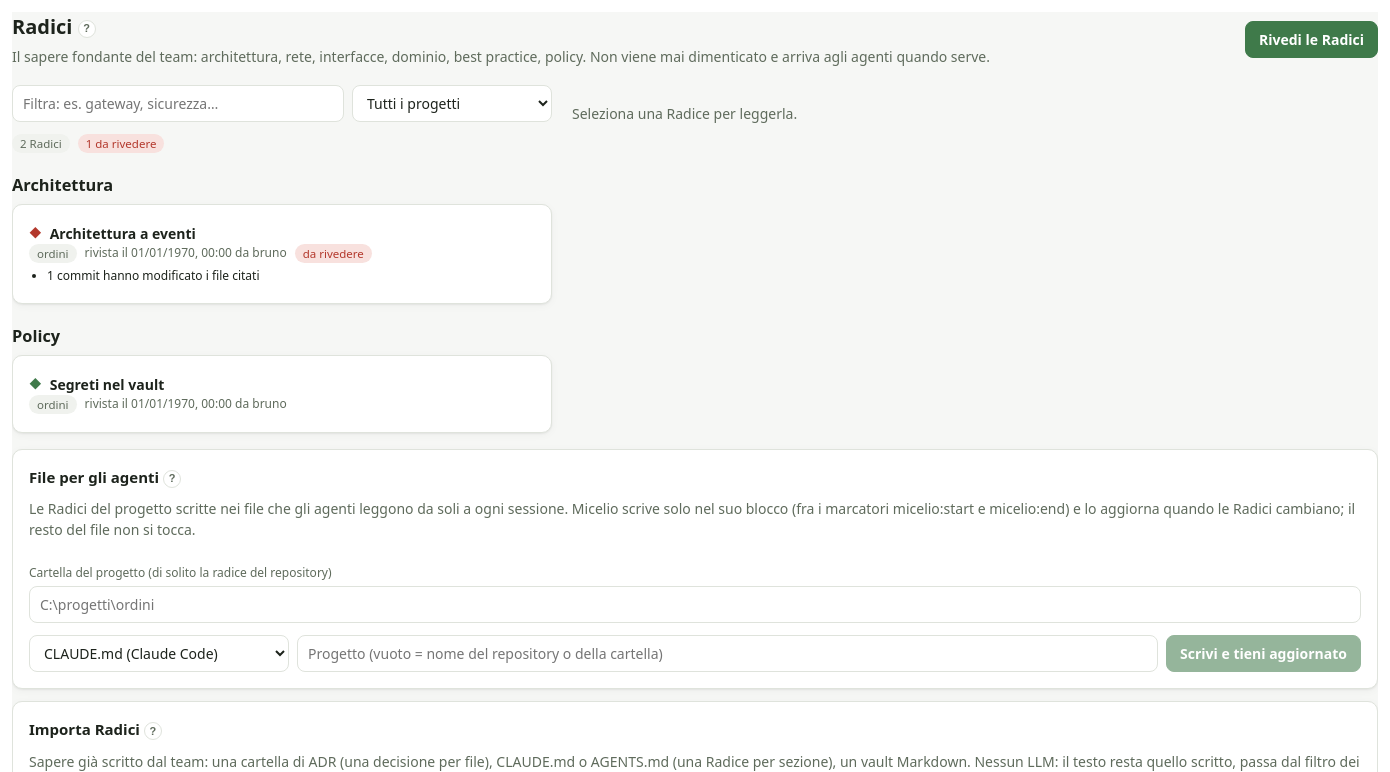
Test: Roots › raggruppa per categoria, evidenzia le Radici da rivedere, lancia la revisione
Expected: the text "Architettura a eventi" is shown, left=50, top=223, right=196, bottom=244
Expected: the heading "Architettura" is shown, left=12, top=174, right=113, bottom=196
Click the button "Rivedi le Radici" at (1312, 40), box left=1245, top=21, right=1378, bottom=58
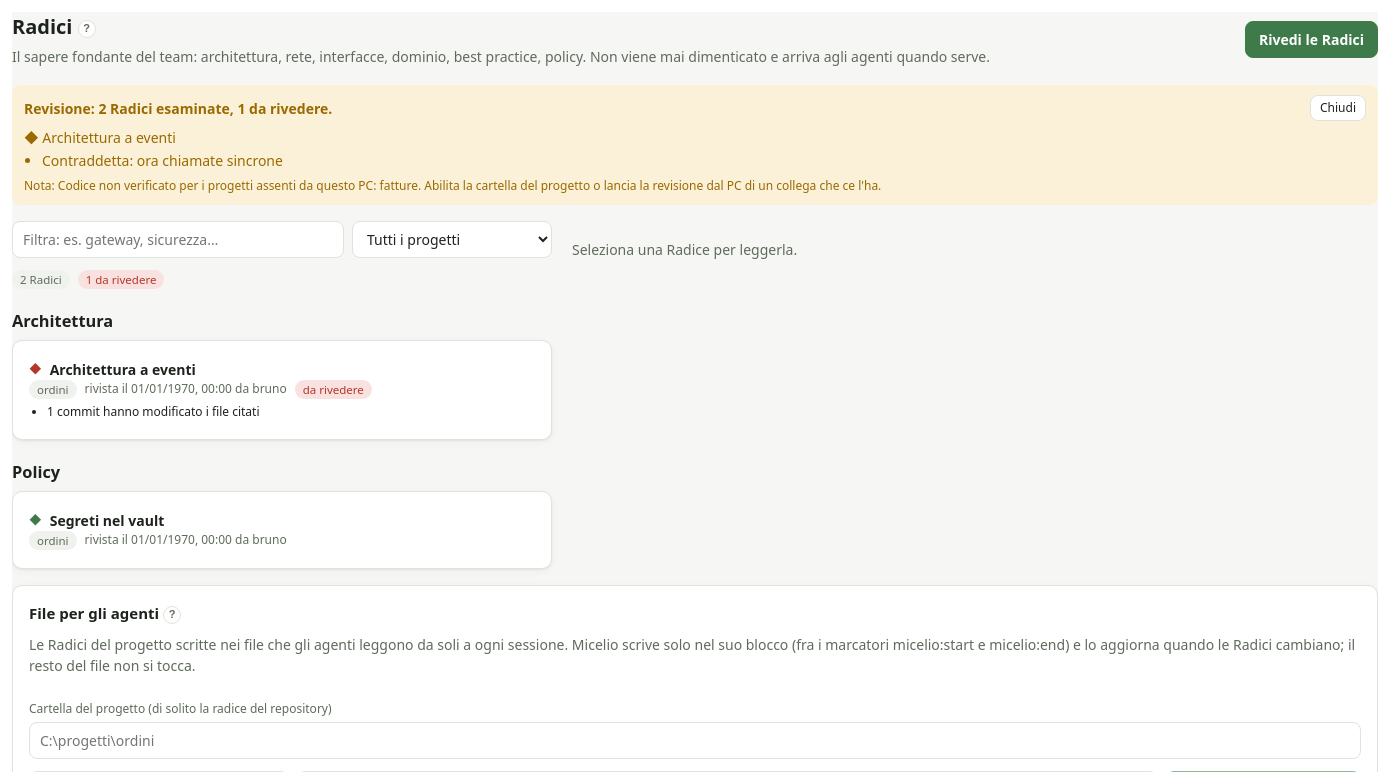
Expected: the text "Revisione: 2 Radici esaminate, 1 da rivedere." is shown, left=24, top=98, right=332, bottom=118
Expected: the list item "Contraddetta: ora chiamate sincrone" is shown, left=42, top=151, right=283, bottom=170
Expected: the text "progetti assenti da questo PC" is shown, left=58, top=177, right=881, bottom=194
